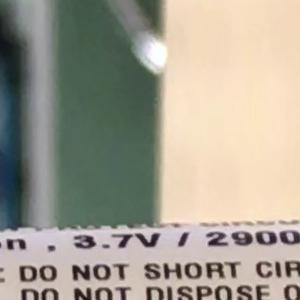keyword: (64, 214, 173, 259)
